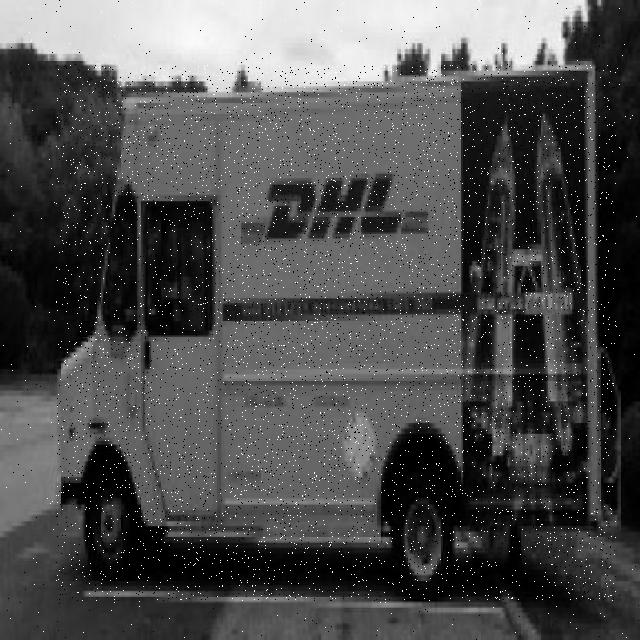Box Truck: (56, 65, 616, 601)
